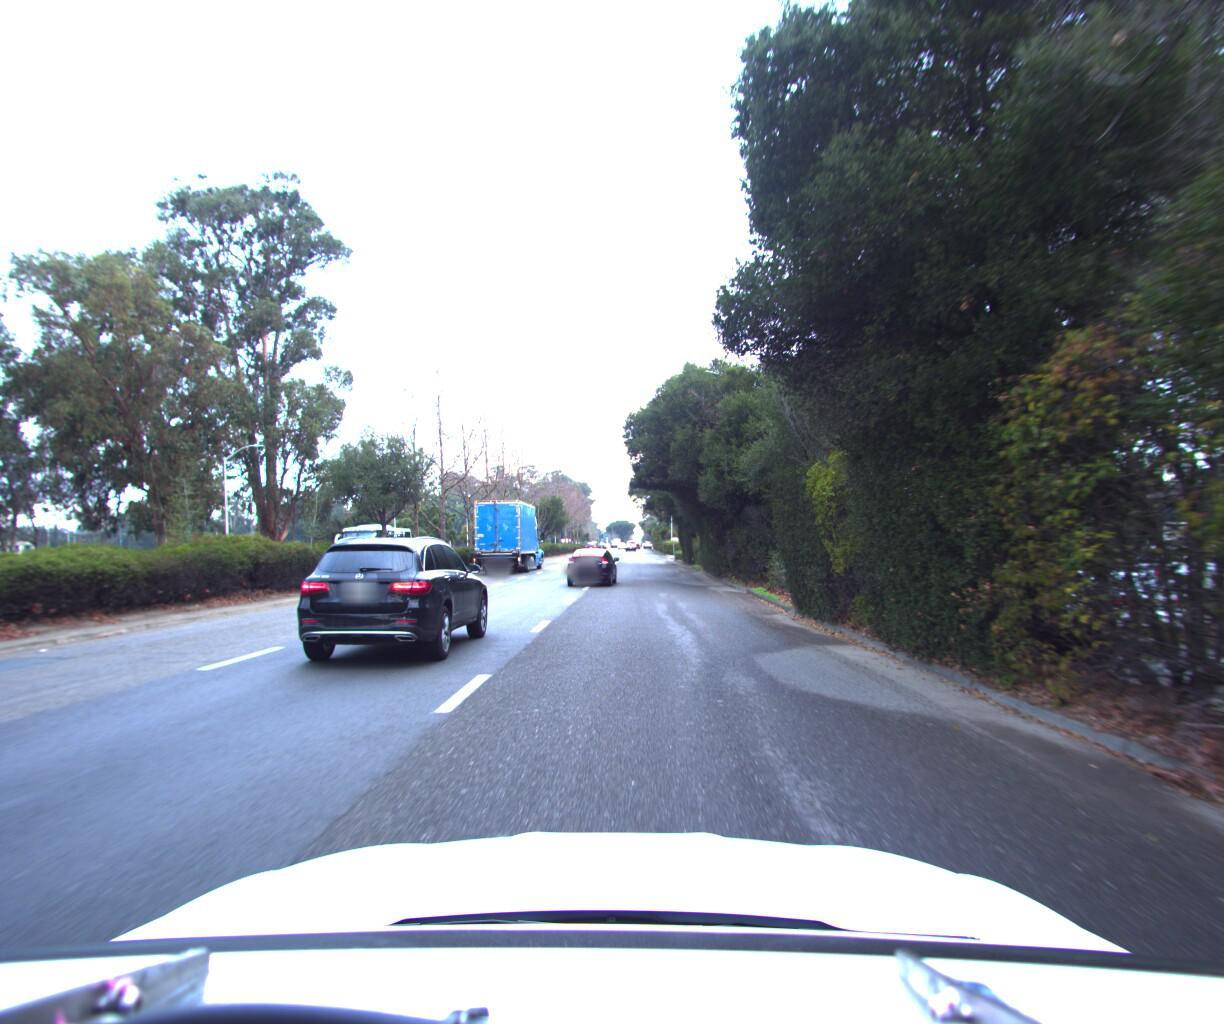car: (283, 529, 499, 668), (564, 544, 619, 585)
truck: (466, 490, 552, 574), (331, 516, 422, 571)
